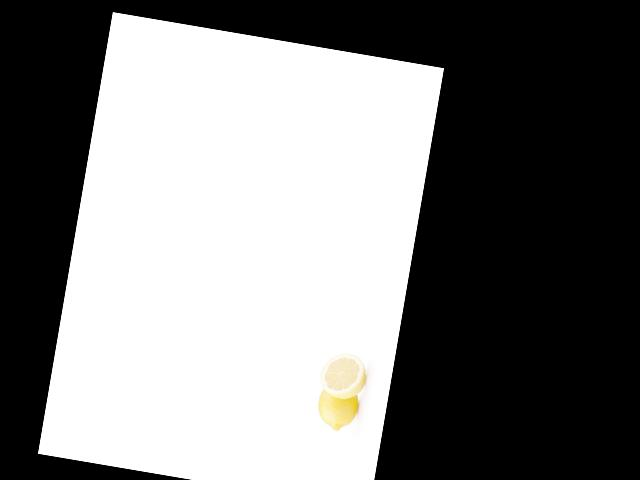lemon: (311, 385, 365, 435)
